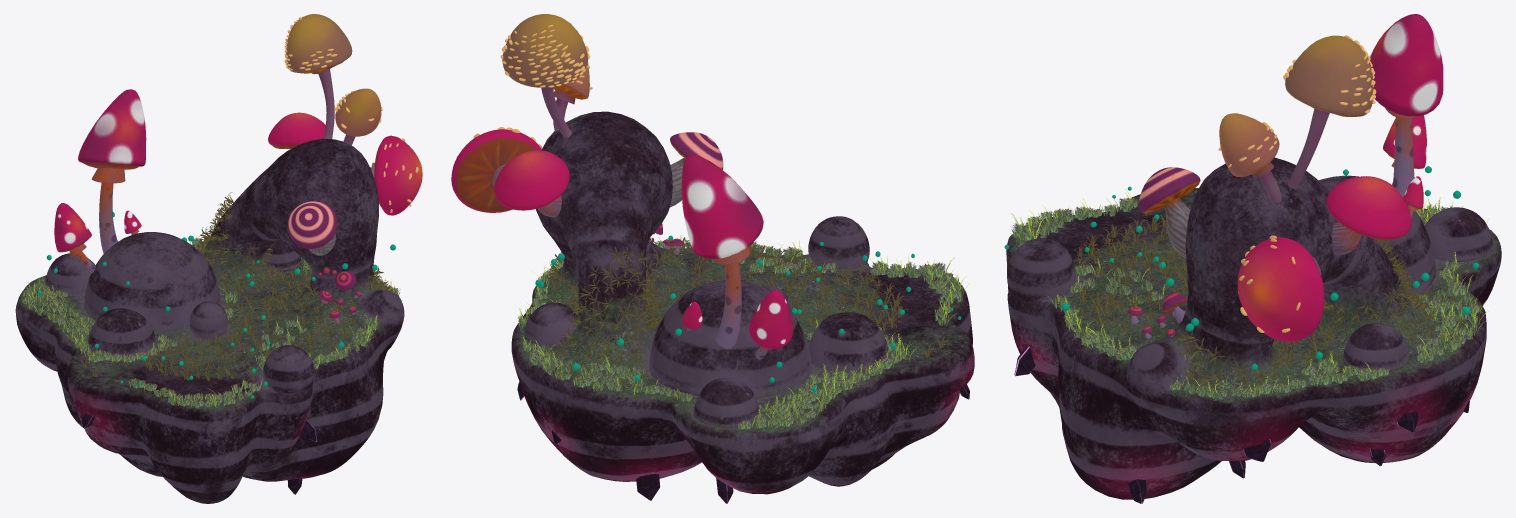
File: Fantastical diorama.glb
The picture shows the model from 3 angles, left to right: view 1: azimuth 30°, elevation 25°; view 2: azimuth 150°, elevation 25°; view 3: azimuth 270°, elevation 25°; orthographic projection. The views are drawn at different scales.
Parts seen in each view (by area): view 1: magical_c.4, magical_a.2, magical_b.3; view 2: magical_c.4, magical_a.2, magical_b.3; view 3: magical_c.4, magical_a.2, magical_b.3.
Boxes of the visible parts, x1,y1,x2,y2 form: magical_c.4: (15,138,404,503); magical_a.2: (22,17,422,407); magical_b.3: (81,14,381,494); magical_c.4: (511,111,974,494); magical_a.2: (451,24,969,429); magical_b.3: (502,14,969,503); magical_c.4: (1004,157,1501,499); magical_a.2: (1010,14,1488,399); magical_b.3: (1014,35,1469,503).
Size of the model in its own units: 0.1184 by 0.1143 by 0.0994.
Materials: 3 (3 with a texture image).
